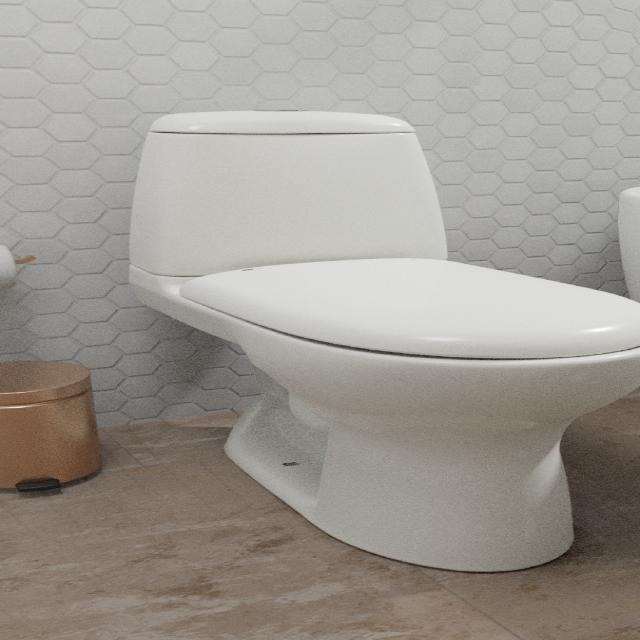toilet: (126, 109, 639, 572)
